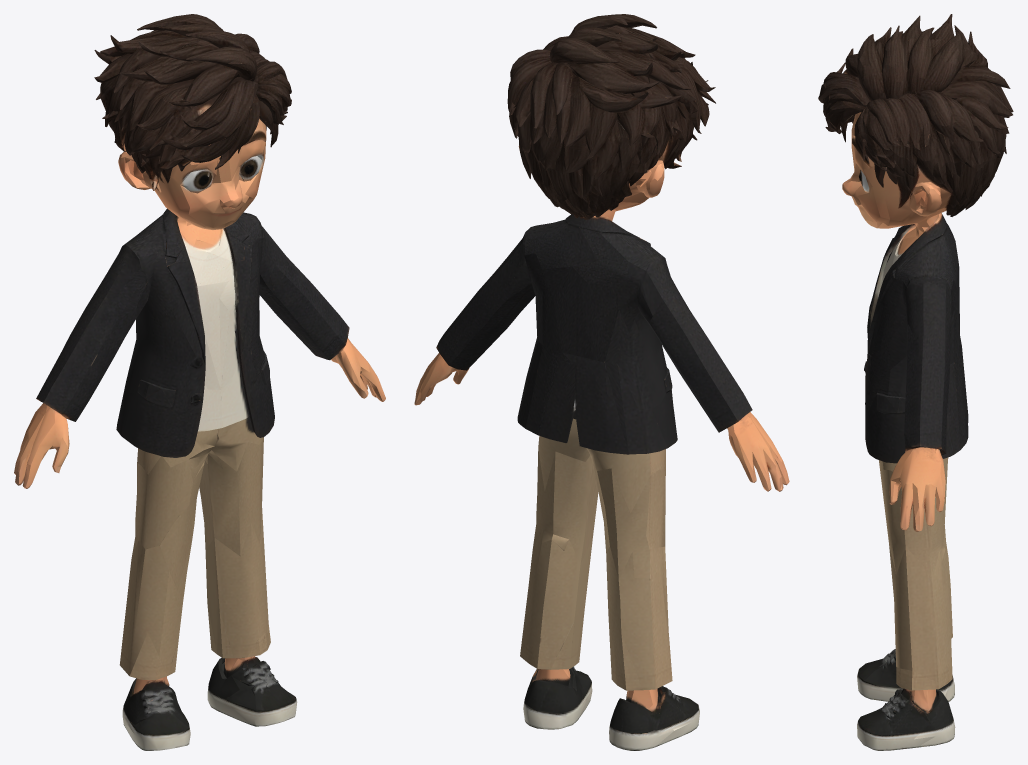
File: orion-model.glb
3 renders of one model, left to right at view 1: azimuth 30°, elevation 25°; view 2: azimuth 150°, elevation 25°; view 3: azimuth 270°, elevation 25°, orthographic. The views are drawn at different scales.
Visible parts, largest first — view 1: Mesh_0; view 2: Mesh_0; view 3: Mesh_0.
Part boxes in pixels (bbox=[...]): Mesh_0: bbox=[14, 14, 385, 750]; Mesh_0: bbox=[414, 14, 789, 750]; Mesh_0: bbox=[818, 14, 1013, 750].
Bounding box in the file's own units: 1.04 × 1.9 × 0.4972.
1 material, 1 textured.
